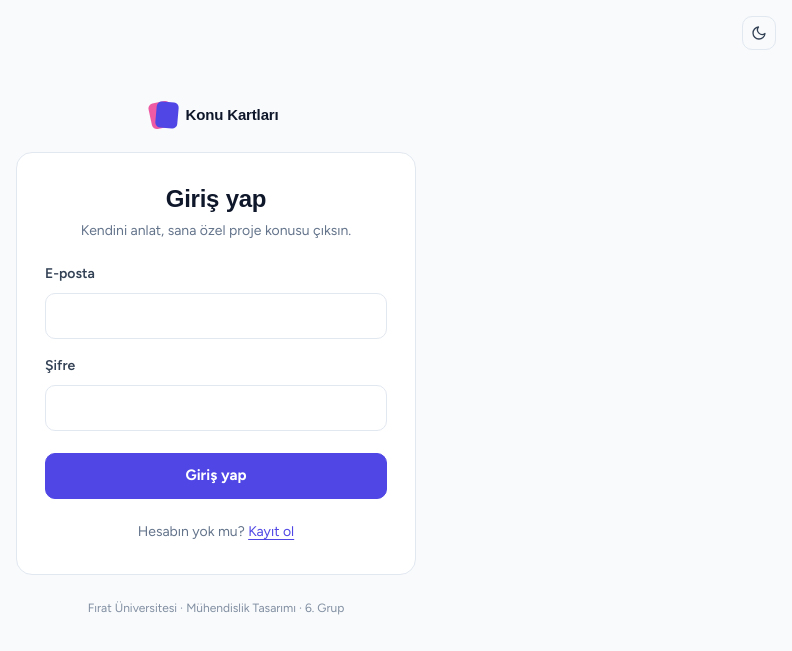
Test: Giriş › boş gönderilince uyarır, sunucuya gitmez
This screenshot has width=792, height=651.
Click the button "Giriş yap" at [216, 476], box left=45, top=453, right=387, bottom=499
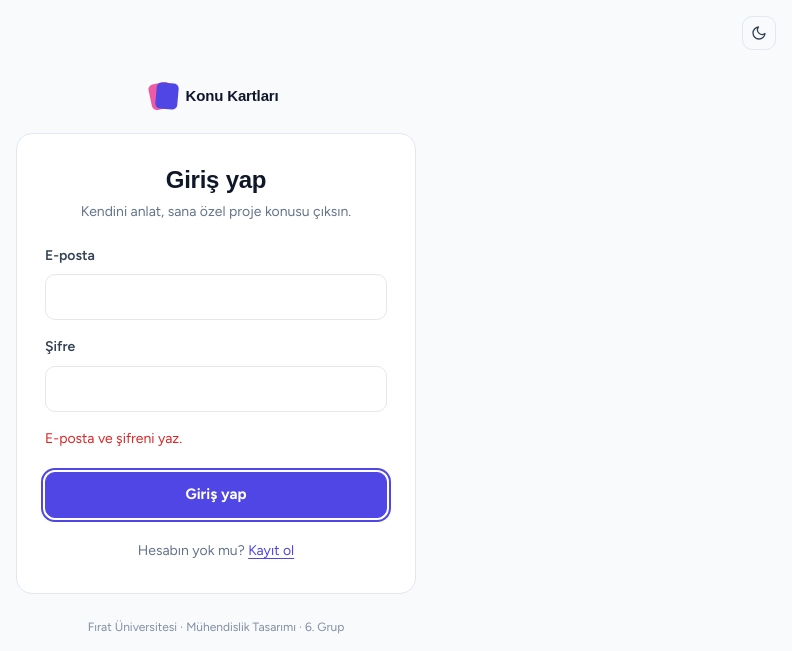
Expected: the message reads "E-posta ve şifreni yaz.", left=45, top=430, right=182, bottom=447
